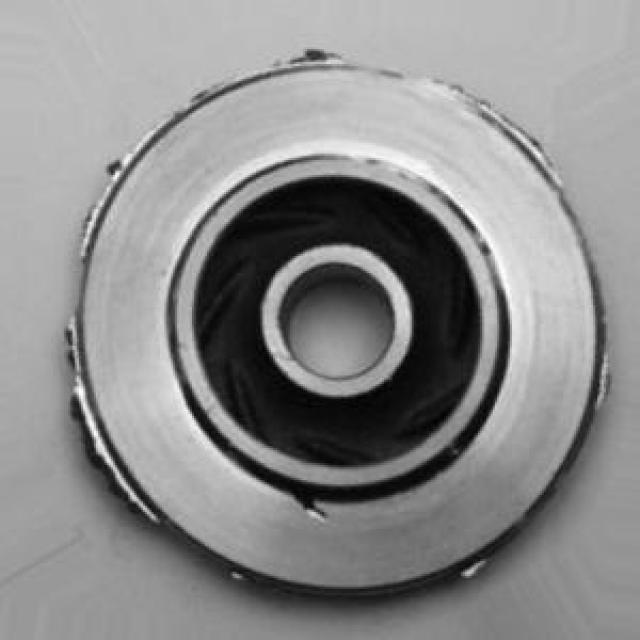Defect: (85, 146, 144, 188)
